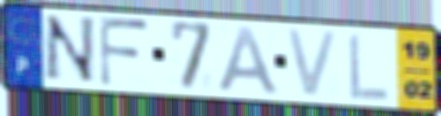7: (168, 19, 216, 93)
A: (215, 24, 284, 97)
F: (96, 14, 153, 89)
L: (346, 31, 392, 102)
N: (41, 13, 99, 86)
V: (283, 26, 343, 100)
